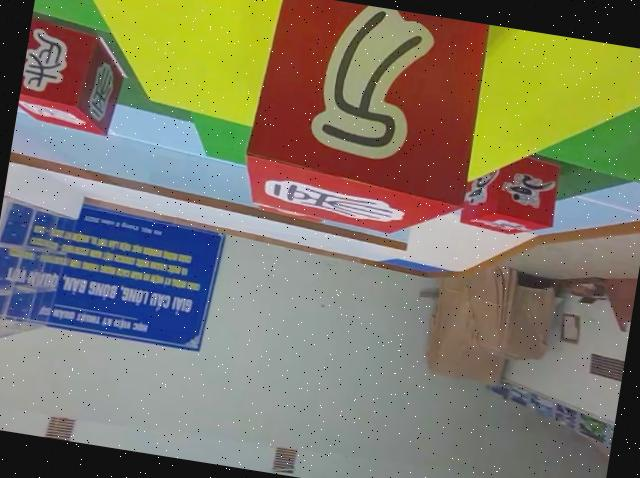R1: (457, 145, 563, 241)
R2 Fake: (236, 0, 490, 246), (15, 6, 131, 136)
